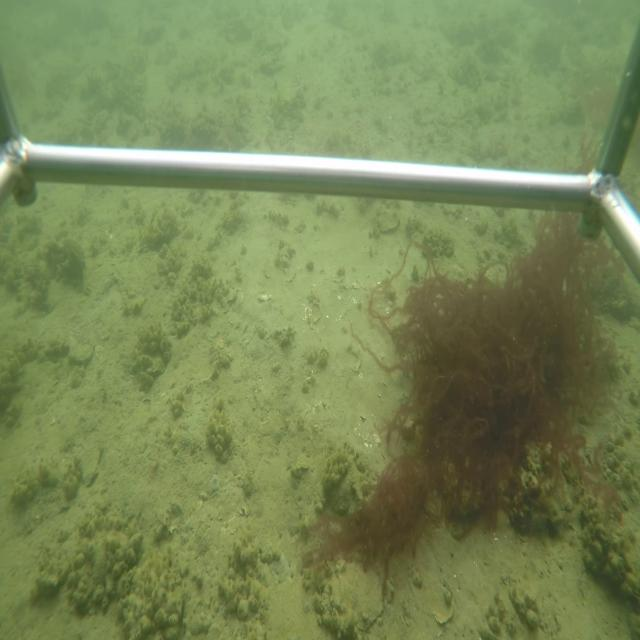Oyster-Closed: (68, 341, 97, 366)
Oyster-Indeterminate: (320, 559, 388, 634)
